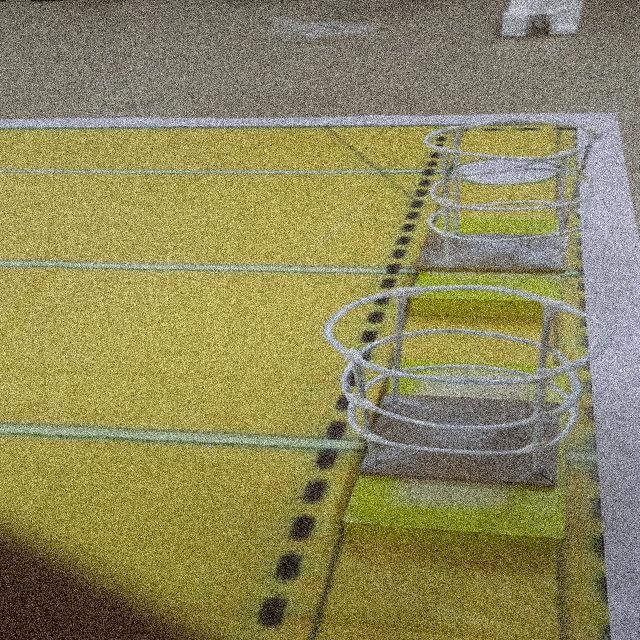silo: (306, 270, 602, 496), (384, 103, 600, 286)
